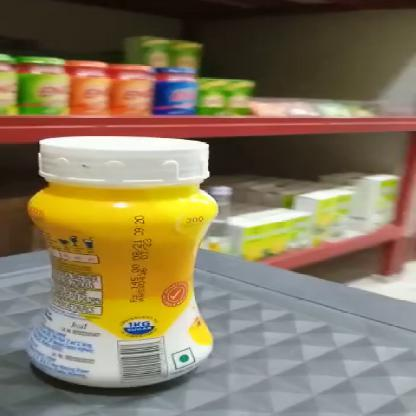SUGAR FREE GOLD POWDER 100GM: (27, 135, 218, 389)
